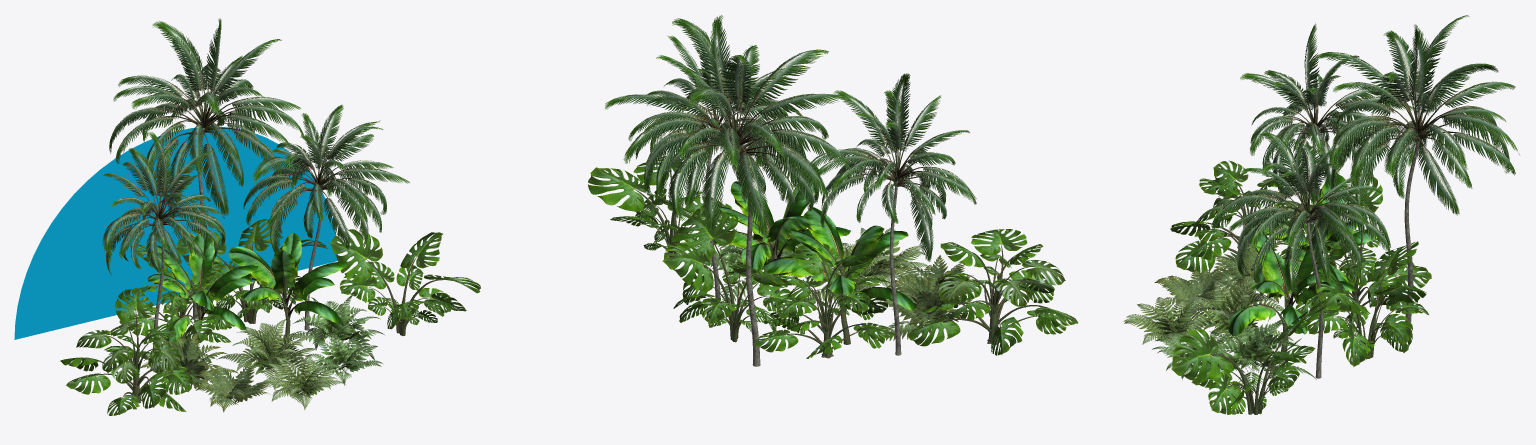
Rendered from plants.glb.
3 views of the same model, side by side, from view 1: azimuth 30°, elevation 25°; view 2: azimuth 150°, elevation 25°; view 3: azimuth 270°, elevation 25° (orthographic). The views are drawn at different scales.
Parts seen in each view (by area): view 1: Circle, SM_MZRa_Palm_B082, SM_MZRa_Palm_B081, SM_MZRa_Palm_B083, tree.006SM_MZRa_Monstera_B071, tree.002SM_MZRa_Monstera_B074, SM_MZRa_Banana_B092, SM_MZRa_Banana_B091, tree.007SM_MZRa_Monstera_B072, SM_MZRa_Fern_B052, tree.003SM_MZRa_Monstera_B073, SM_MZRa_Fern_B053 (+4 smaller); view 2: SM_MZRa_Palm_B082, SM_MZRa_Palm_B083, tree.006SM_MZRa_Monstera_B071, tree.003SM_MZRa_Monstera_B073, tree.007SM_MZRa_Monstera_B072, SM_MZRa_Palm_B081, SM_MZRa_Banana_B091, tree.002SM_MZRa_Monstera_B074, SM_MZRa_Banana_B092, SM_MZRa_Fern_B051, SM_MZRa_Fern_B052, SM_MZRa_Fern_B053 (+2 smaller); view 3: SM_MZRa_Palm_B082, SM_MZRa_Palm_B081, SM_MZRa_Palm_B083, tree.002SM_MZRa_Monstera_B074, tree.003SM_MZRa_Monstera_B073, tree.006SM_MZRa_Monstera_B071, SM_MZRa_Banana_B092, tree.007SM_MZRa_Monstera_B072, SM_MZRa_Fern_B052, SM_MZRa_Fern_B053, SM_MZRa_Fern_B0522, SM_MZRa_Banana_B091 (+3 smaller).
Boxes of the visible parts, x1,y1,x2,y2 form: Circle: (14, 127, 337, 339); SM_MZRa_Palm_B082: (109, 18, 303, 319); SM_MZRa_Palm_B081: (243, 104, 409, 330); SM_MZRa_Palm_B083: (102, 132, 225, 365); tree.006SM_MZRa_Monstera_B071: (60, 288, 197, 415); tree.002SM_MZRa_Monstera_B074: (330, 229, 480, 335); SM_MZRa_Banana_B092: (228, 232, 348, 348); SM_MZRa_Banana_B091: (147, 232, 258, 344); tree.007SM_MZRa_Monstera_B072: (119, 244, 234, 346); SM_MZRa_Fern_B052: (216, 319, 316, 390); tree.003SM_MZRa_Monstera_B073: (176, 219, 327, 323); SM_MZRa_Fern_B053: (285, 294, 384, 360); SM_MZRa_Palm_B082: (623, 15, 851, 366); SM_MZRa_Palm_B083: (805, 73, 976, 355); tree.006SM_MZRa_Monstera_B071: (908, 229, 1078, 355); tree.003SM_MZRa_Monstera_B073: (662, 201, 794, 342); tree.007SM_MZRa_Monstera_B072: (754, 243, 896, 358); SM_MZRa_Palm_B081: (605, 28, 802, 309); SM_MZRa_Banana_B091: (763, 207, 916, 344); tree.002SM_MZRa_Monstera_B074: (588, 148, 730, 269); SM_MZRa_Banana_B092: (713, 165, 850, 307); SM_MZRa_Fern_B051: (875, 270, 982, 340); SM_MZRa_Fern_B052: (794, 244, 902, 307); SM_MZRa_Fern_B053: (703, 224, 805, 310); SM_MZRa_Palm_B082: (1314, 15, 1520, 338); SM_MZRa_Palm_B081: (1211, 132, 1390, 378); SM_MZRa_Palm_B083: (1240, 23, 1414, 255); tree.002SM_MZRa_Monstera_B074: (1171, 300, 1327, 414); tree.003SM_MZRa_Monstera_B073: (1307, 241, 1428, 366); tree.006SM_MZRa_Monstera_B071: (1170, 160, 1316, 286); SM_MZRa_Banana_B092: (1228, 224, 1356, 352); tree.007SM_MZRa_Monstera_B072: (1295, 173, 1431, 332); SM_MZRa_Fern_B052: (1183, 279, 1293, 346); SM_MZRa_Fern_B053: (1199, 319, 1316, 393); SM_MZRa_Fern_B0522: (1123, 297, 1215, 349); SM_MZRa_Banana_B091: (1254, 173, 1377, 316).
Size of the model in its own units: 10.36 by 7.27 by 7.67.
Materials: 11 (10 with a texture image).
